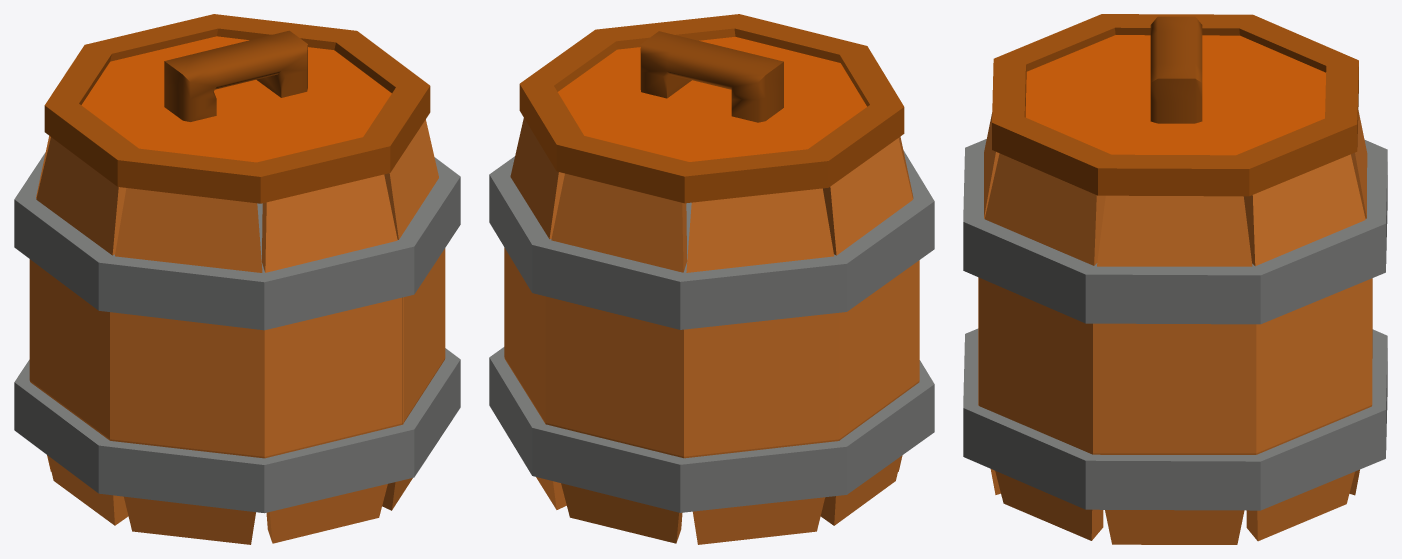
Rendered from Bin_3.glb.
The picture shows the model from 3 angles, left to right: view 1: azimuth 30°, elevation 25°; view 2: azimuth 150°, elevation 25°; view 3: azimuth 270°, elevation 25°; orthographic projection.
Parts seen in each view (by area): view 1: Plane, Cylinder.001, Cylinder.002, Cylinder, Cube; view 2: Plane, Cylinder.001, Cylinder.002, Cylinder, Cube; view 3: Plane, Cylinder.001, Cylinder.002, Cylinder, Cube.
Part boxes in pixels (left/top/right/bottom): Plane: left=29, top=119, right=445, bottom=544; Cylinder.001: left=44, top=14, right=430, bottom=203; Cylinder.002: left=14, top=152, right=460, bottom=330; Cylinder: left=14, top=348, right=460, bottom=513; Cube: left=164, top=30, right=307, bottom=121; Plane: left=504, top=118, right=919, bottom=544; Cylinder.001: left=519, top=14, right=904, bottom=203; Cylinder.002: left=489, top=150, right=934, bottom=329; Cylinder: left=489, top=347, right=934, bottom=512; Cube: left=640, top=31, right=783, bottom=122; Plane: left=978, top=110, right=1372, bottom=544; Cylinder.001: left=992, top=14, right=1358, bottom=196; Cylinder.002: left=963, top=139, right=1387, bottom=324; Cylinder: left=963, top=328, right=1387, bottom=510; Cube: left=1150, top=16, right=1202, bottom=123.
Size of the model in its own units: 1.31 by 1.43 by 1.31.
